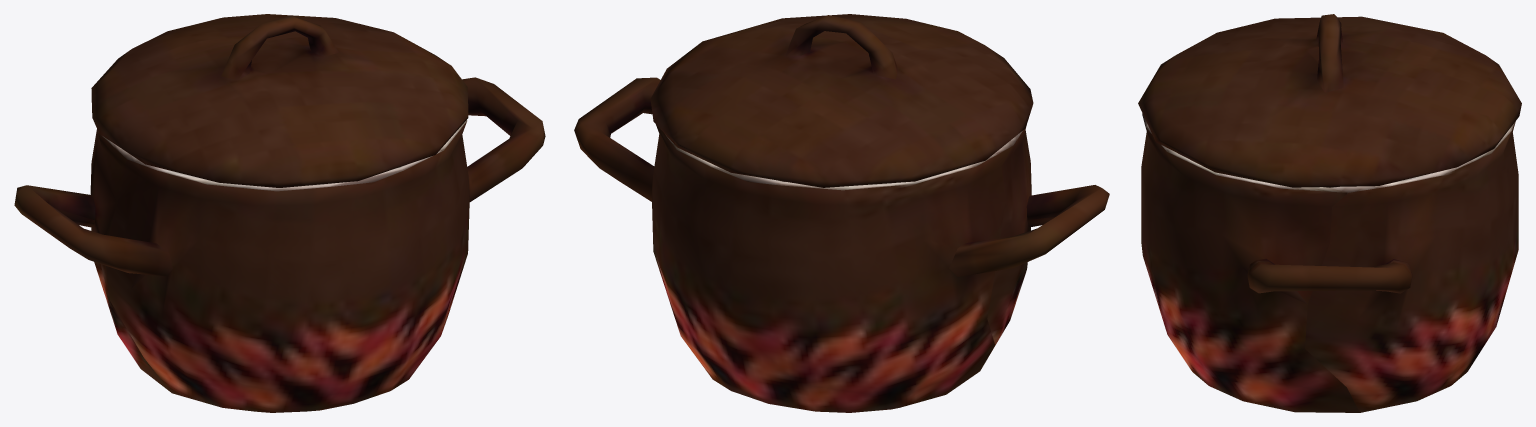
The model's file is pot_enamel_01.glb.
3 views of the same model, side by side, from view 1: azimuth 30°, elevation 25°; view 2: azimuth 150°, elevation 25°; view 3: azimuth 270°, elevation 25° (orthographic).
Parts seen in each view (by area): view 1: pot_enamel_01; view 2: pot_enamel_01; view 3: pot_enamel_01.
Part boxes in pixels (box(x1,y1,x2,y2)): pot_enamel_01: box(14, 14, 545, 412); pot_enamel_01: box(574, 14, 1109, 412); pot_enamel_01: box(1138, 14, 1521, 412).
Size of the model in its own units: 0.2631 by 0.1777 by 0.1823.
Materials: 1 (1 with a texture image).
